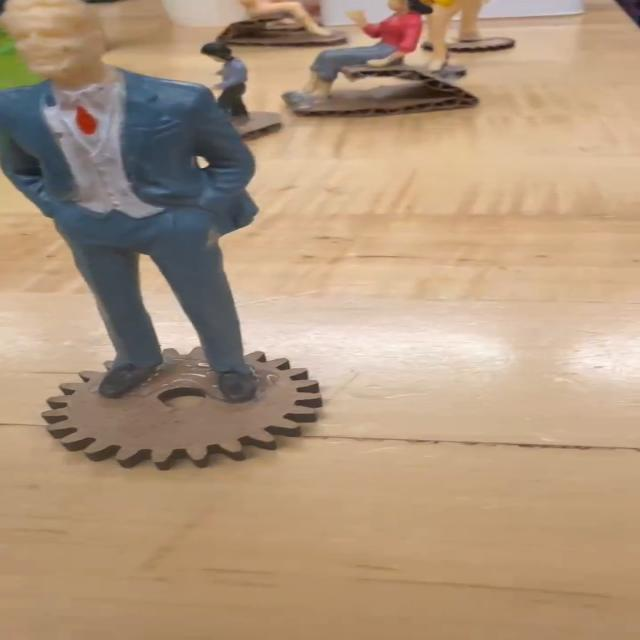Authorized: (0, 0, 363, 470)
